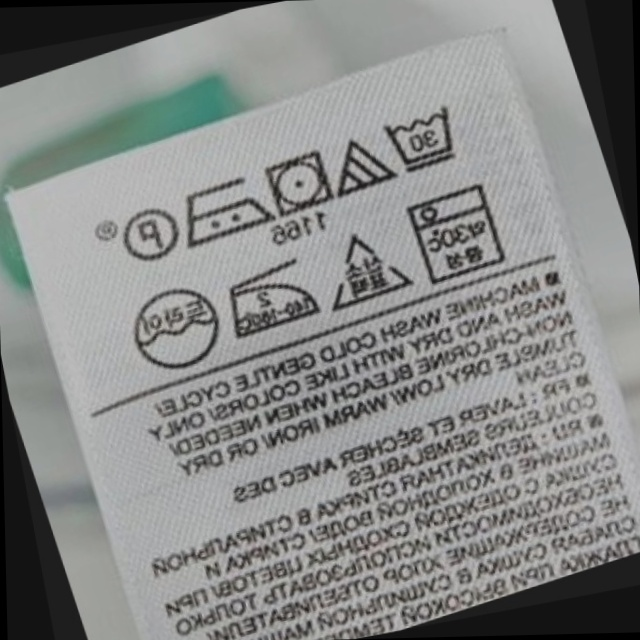30C: (397, 173, 519, 292), (375, 94, 470, 186)
dry_clean: (113, 275, 235, 384)
dry_clean_any_solvent_except_trichloroethylene: (116, 200, 187, 272)
iron_medium: (210, 249, 328, 347), (166, 163, 282, 257)
non_chlorine_bleach: (310, 222, 419, 321), (318, 130, 399, 206)
tumble_dry_low: (256, 145, 340, 221)
